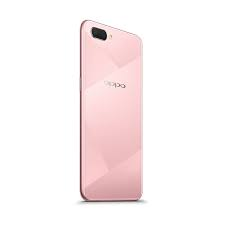oppo: (75, 18, 145, 204)
